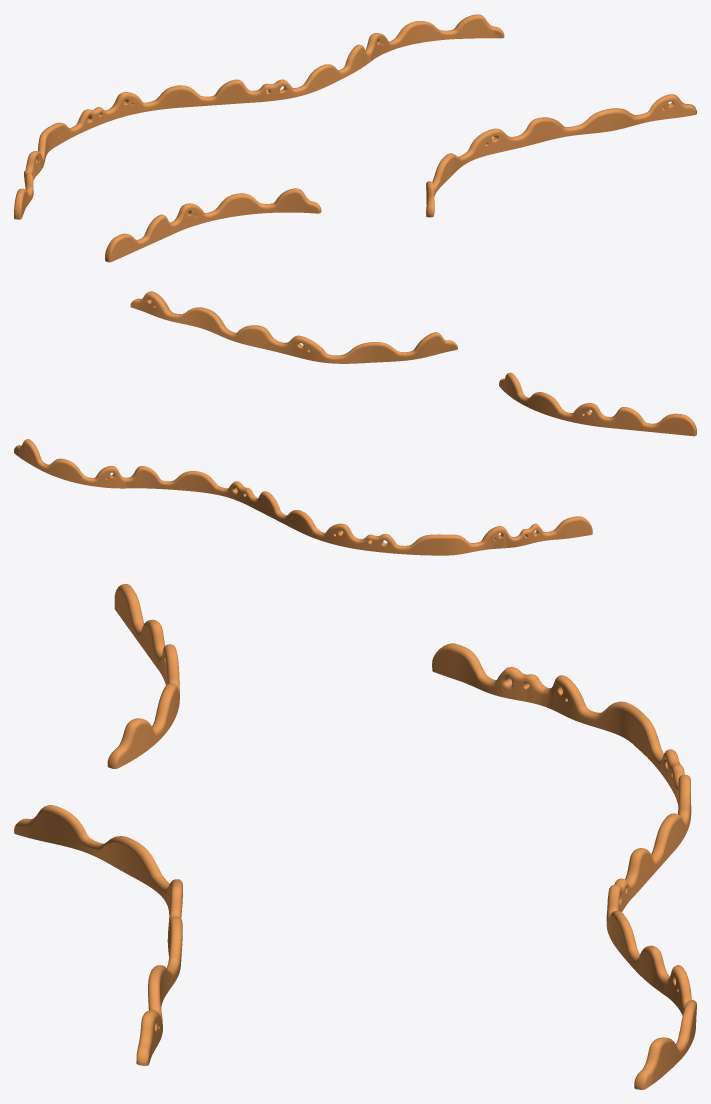
Rendered from a2_walls.fbx.
The picture shows the model from 3 angles, top to bottom: view 1: azimuth 30°, elevation 25°; view 2: azimuth 150°, elevation 25°; view 3: azimuth 270°, elevation 25°; orthographic projection. The views are drawn at different scales.
Visible parts, largest first — view 1: wall_end_022, shopping_pier_wall_08, wall_end_018; view 2: wall_end_022, shopping_pier_wall_08, wall_end_018; view 3: wall_end_022, shopping_pier_wall_08, wall_end_018.
Boxes of the visible parts, <box> form: wall_end_022: <box>14,14,504,219</box>; shopping_pier_wall_08: <box>426,94,696,217</box>; wall_end_018: <box>105,188,321,262</box>; wall_end_022: <box>14,439,592,555</box>; shopping_pier_wall_08: <box>130,291,457,363</box>; wall_end_018: <box>499,372,696,436</box>; wall_end_022: <box>432,643,696,1089</box>; shopping_pier_wall_08: <box>14,805,182,1065</box>; wall_end_018: <box>107,584,179,768</box>.
Size of the model in its own units: 8983 by 807 by 5680.
